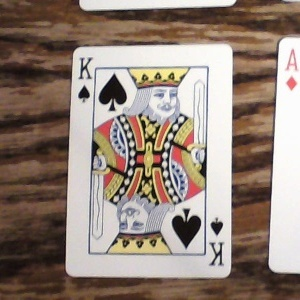card: (68, 40, 231, 278)
